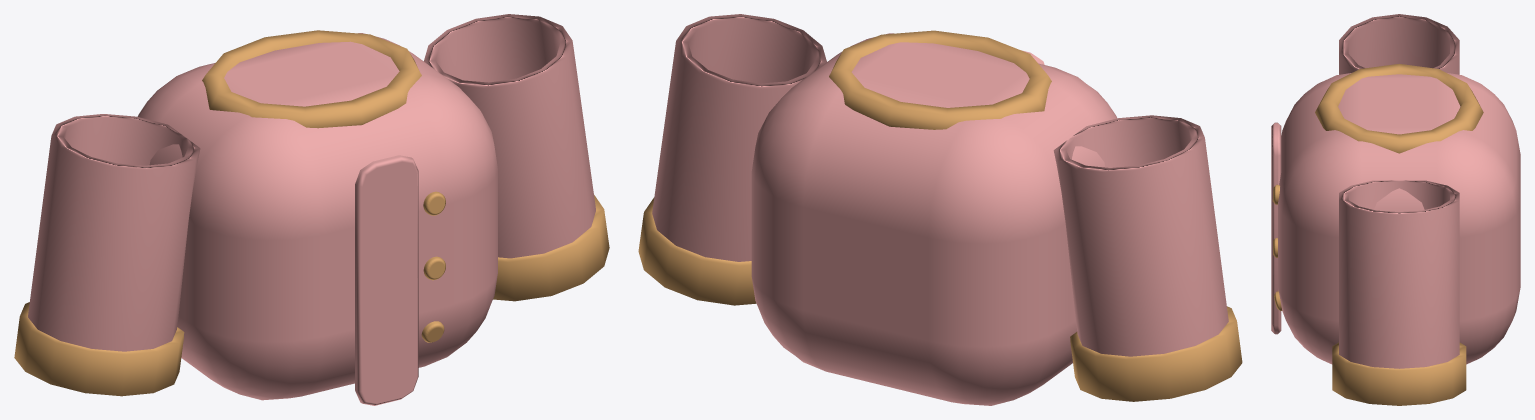
File: aran_knit_cardigan.glb
3 renders of one model, left to right at view 1: azimuth 30°, elevation 25°; view 2: azimuth 150°, elevation 25°; view 3: azimuth 270°, elevation 25°, orthographic. The views are drawn at different scales.
Parts seen in each view (by area): view 1: aran_knit_cardigan_Body, aran_knit_cardigan_ArmL, aran_knit_cardigan_ArmR; view 2: aran_knit_cardigan_Body, aran_knit_cardigan_ArmL, aran_knit_cardigan_ArmR; view 3: aran_knit_cardigan_Body, aran_knit_cardigan_ArmR, aran_knit_cardigan_ArmL.
Part boxes in pixels (left/top/right/bottom): aran_knit_cardigan_Body: left=137, top=30, right=497, bottom=405; aran_knit_cardigan_ArmL: left=14, top=114, right=200, bottom=396; aran_knit_cardigan_ArmR: left=424, top=14, right=609, bottom=301; aran_knit_cardigan_Body: left=751, top=30, right=1116, bottom=405; aran_knit_cardigan_ArmL: left=1053, top=115, right=1242, bottom=401; aran_knit_cardigan_ArmR: left=638, top=14, right=826, bottom=305; aran_knit_cardigan_Body: left=1271, top=63, right=1520, bottom=364; aran_knit_cardigan_ArmR: left=1332, top=180, right=1466, bottom=405; aran_knit_cardigan_ArmL: left=1339, top=14, right=1459, bottom=74.
Bounding box in the file's own units: 0.6504 × 0.3119 × 0.298.
